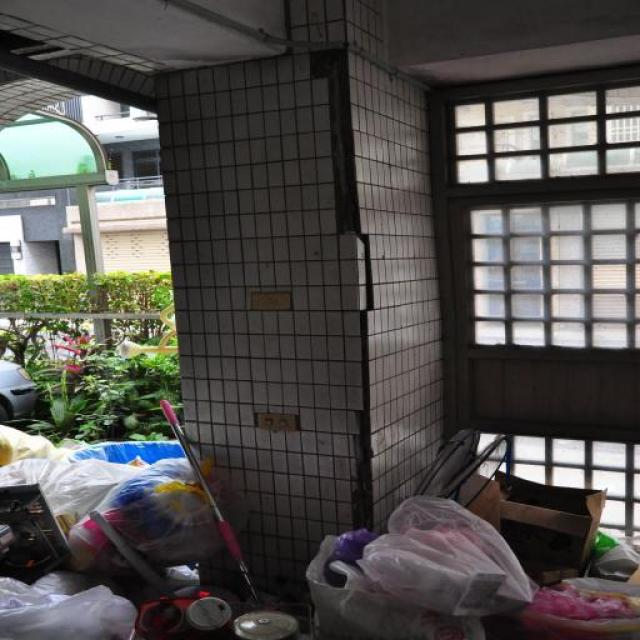D10: (308, 49, 374, 529)
